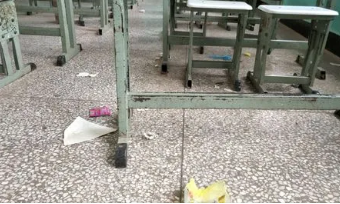garbage: (58, 113, 116, 145), (180, 177, 242, 203), (74, 67, 104, 84), (216, 82, 235, 96), (90, 106, 112, 117), (139, 129, 158, 141), (207, 54, 233, 62), (242, 51, 253, 62)
